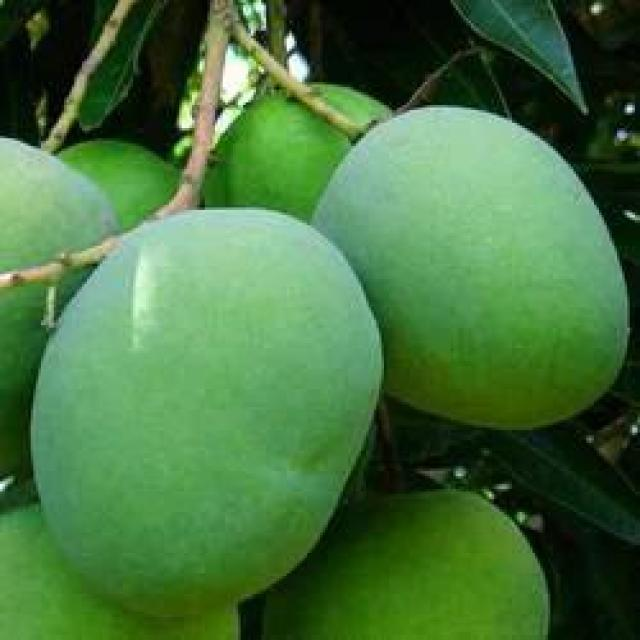Mango: (27, 210, 387, 616), (316, 108, 633, 430), (262, 484, 554, 640), (1, 135, 119, 481), (3, 494, 238, 640), (206, 72, 387, 220), (57, 142, 189, 233)
